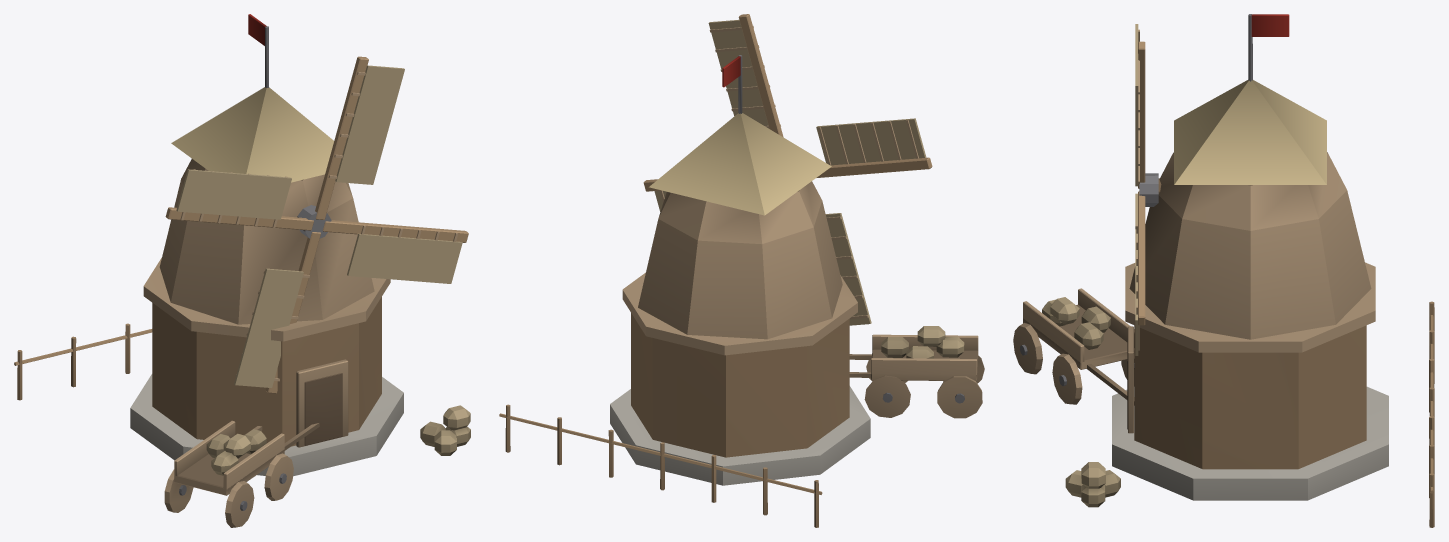
The model's file is bld_melnica.glb.
3 views of the same model, side by side, from view 1: azimuth 30°, elevation 25°; view 2: azimuth 150°, elevation 25°; view 3: azimuth 270°, elevation 25° (orthographic). The views are drawn at different scales.
Visible parts, largest first — view 1: melnica, melnica_kryla; view 2: melnica, melnica_kryla; view 3: melnica, melnica_kryla.
Boxes of the visible parts, x1,y1,x2,y2 form: melnica: (14, 14, 470, 527); melnica_kryla: (165, 56, 468, 393); melnica: (499, 55, 984, 527); melnica_kryla: (643, 14, 932, 325); melnica: (1013, 14, 1434, 527); melnica_kryla: (1135, 24, 1158, 355).
Size of the model in its own units: 1.8 by 1.95 by 1.74.
